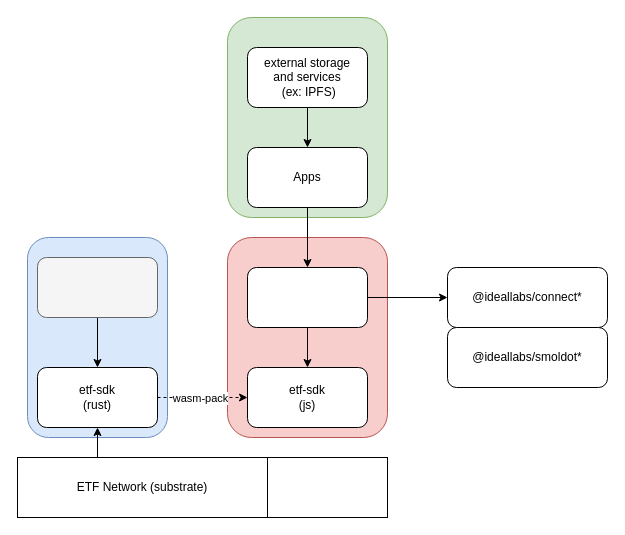
The diagram is 625 pixels wide and 535 high, and some of its shapes have lost their labels. The shapes that lost their labels are listed below. From the top down, each one's centre as x and y in pixels, then its label:
At (x=97, y=287): "etf-cli (rust)".
At (x=307, y=297): "etf.js (js)".
At (x=327, y=487): "contracts".
